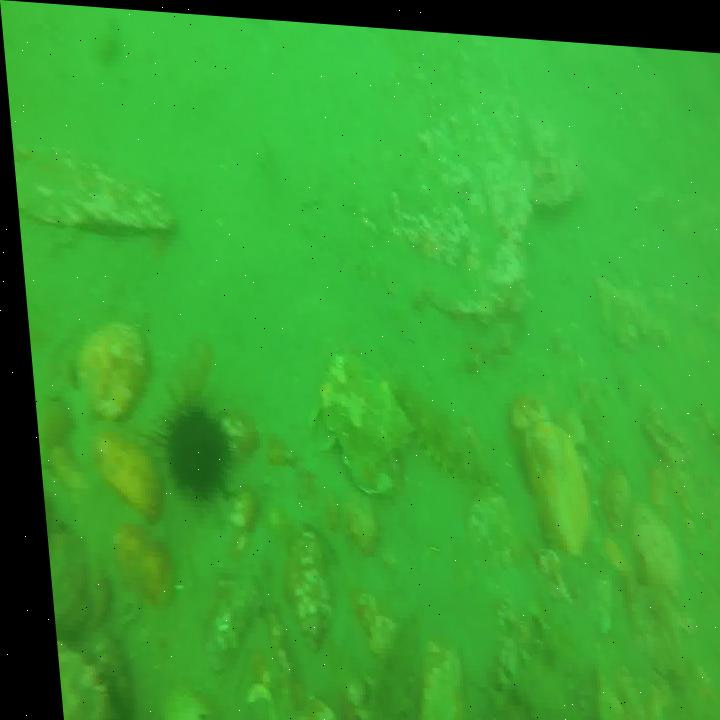echinus: (147, 393, 227, 503)
holothurian: (389, 375, 479, 477)
